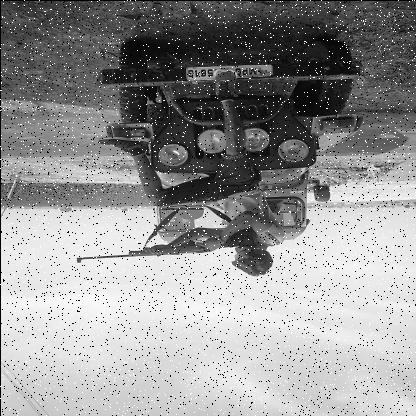rifle: (75, 224, 258, 262)
